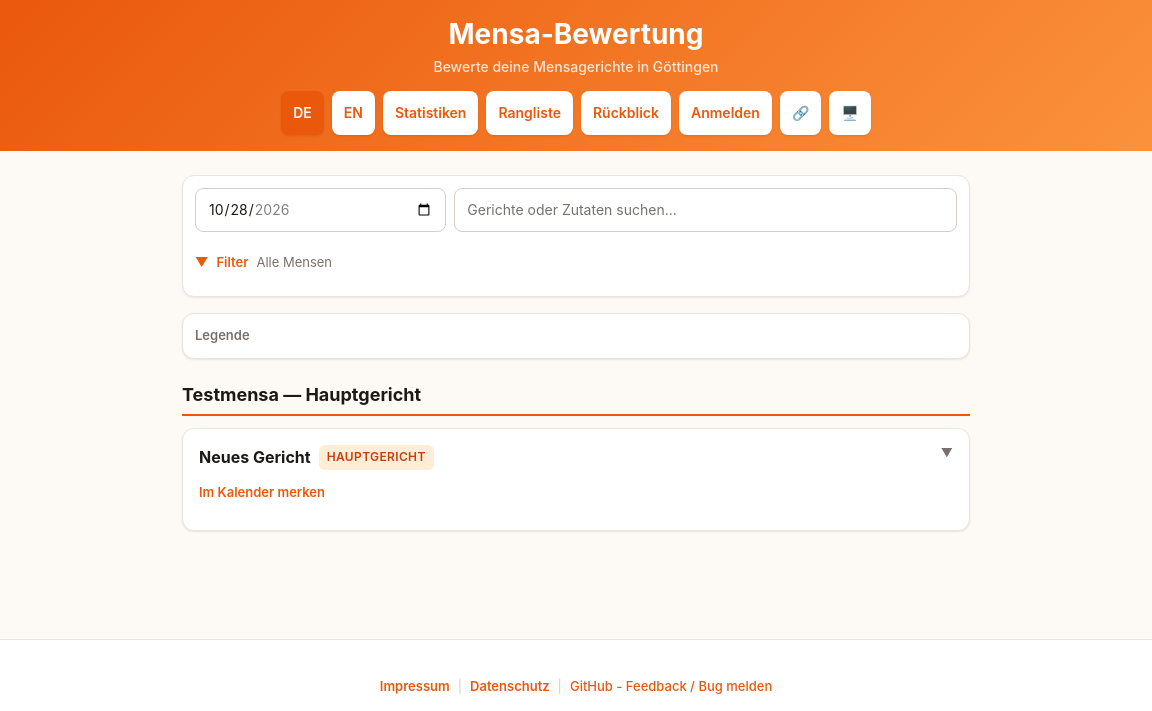
Scenario: the submitted row is marked as the visitor's own
The width and height of the screenshot is (1152, 711).
Click the text "Neues Gericht" at (255, 458), box [199, 447, 311, 468]
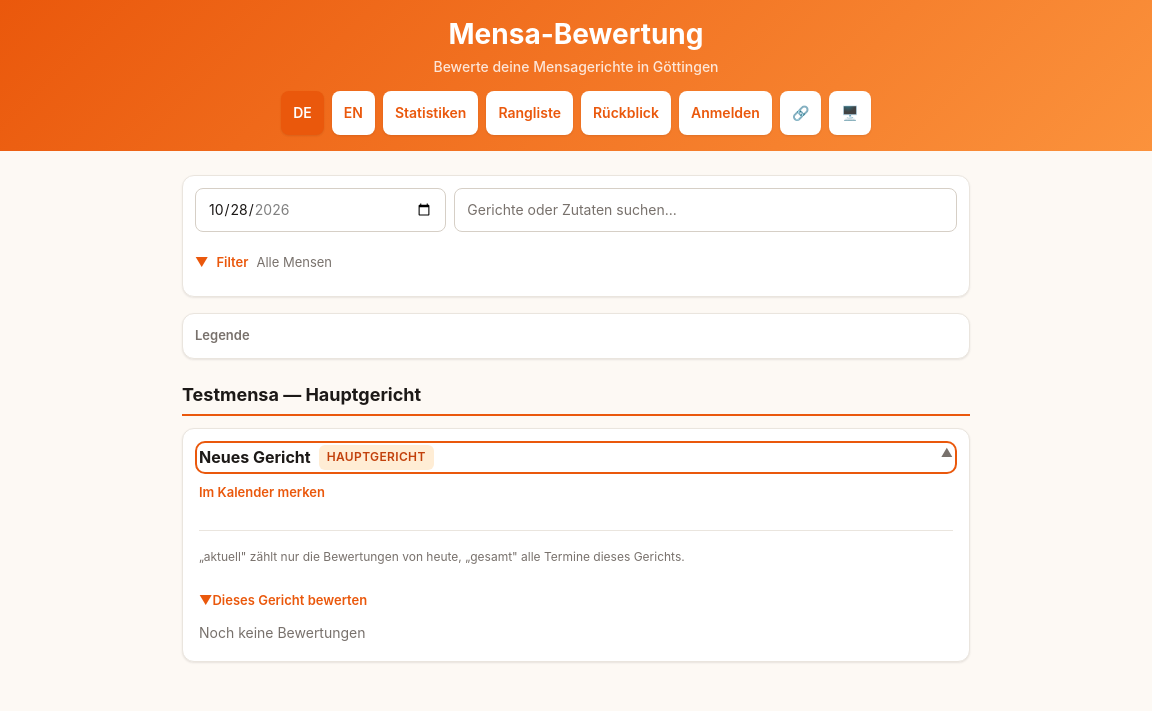
Click the button "▼ Dieses Gericht bewerten" at (283, 600), box [199, 578, 367, 622]
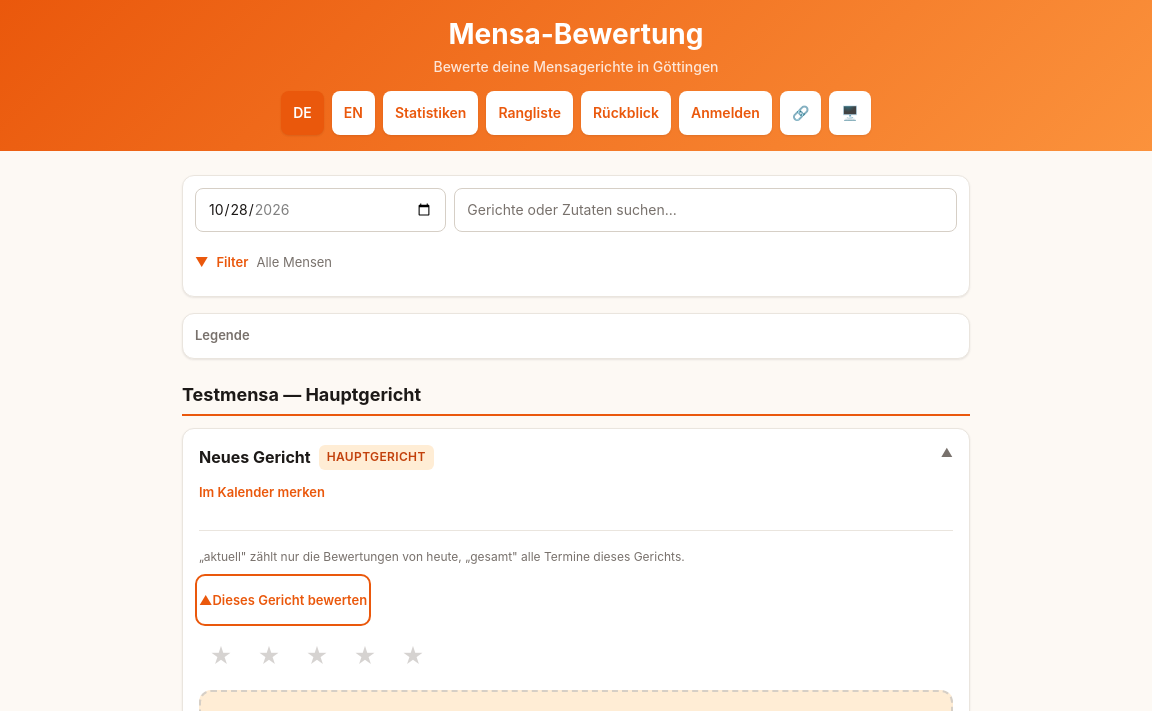
Click the 5th button with class "star-btn" at (413, 656), box [391, 634, 435, 678]
(page scrolled)
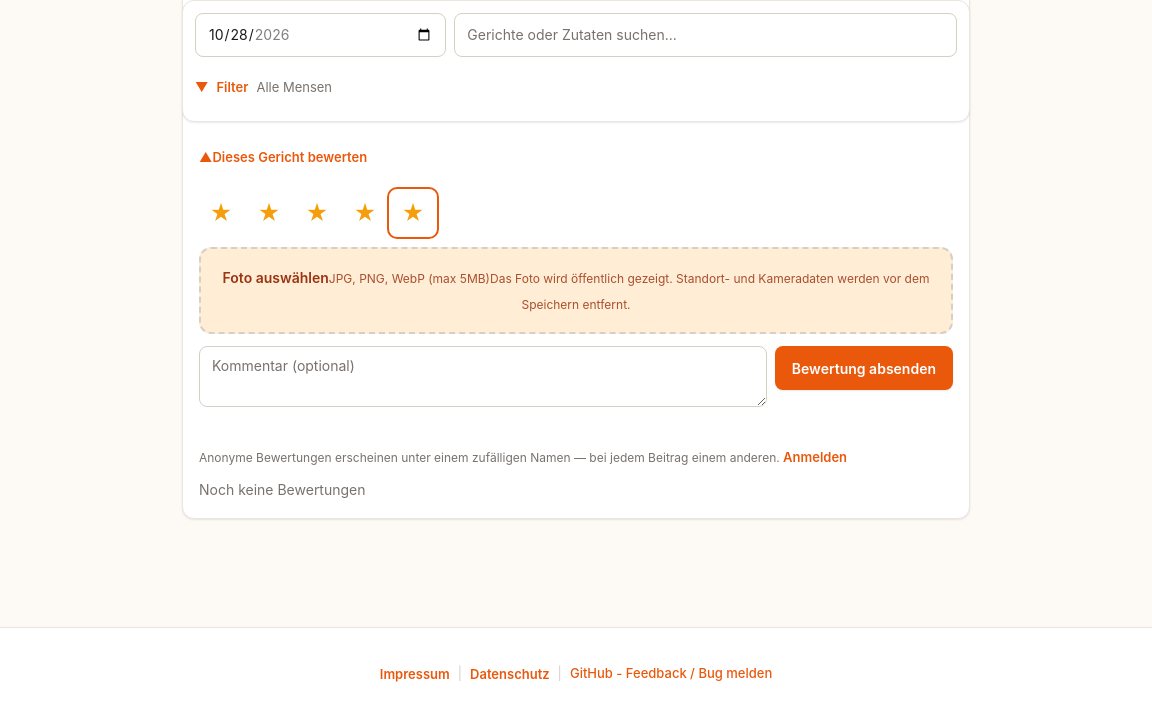
Type "Frisch gekocht" into the text box labelled "Kommentar (optional)" at (483, 377), box [199, 346, 767, 407]
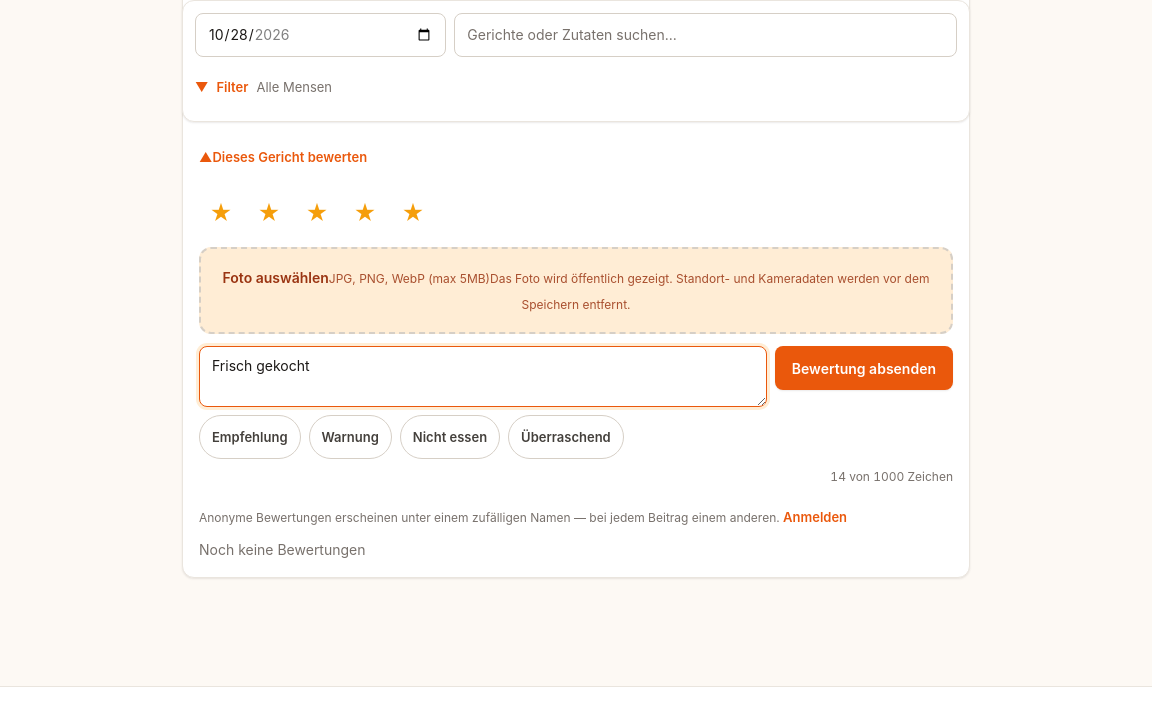
Click the button "Bewertung absenden" at (864, 368), box [775, 346, 953, 390]
(page scrolled)
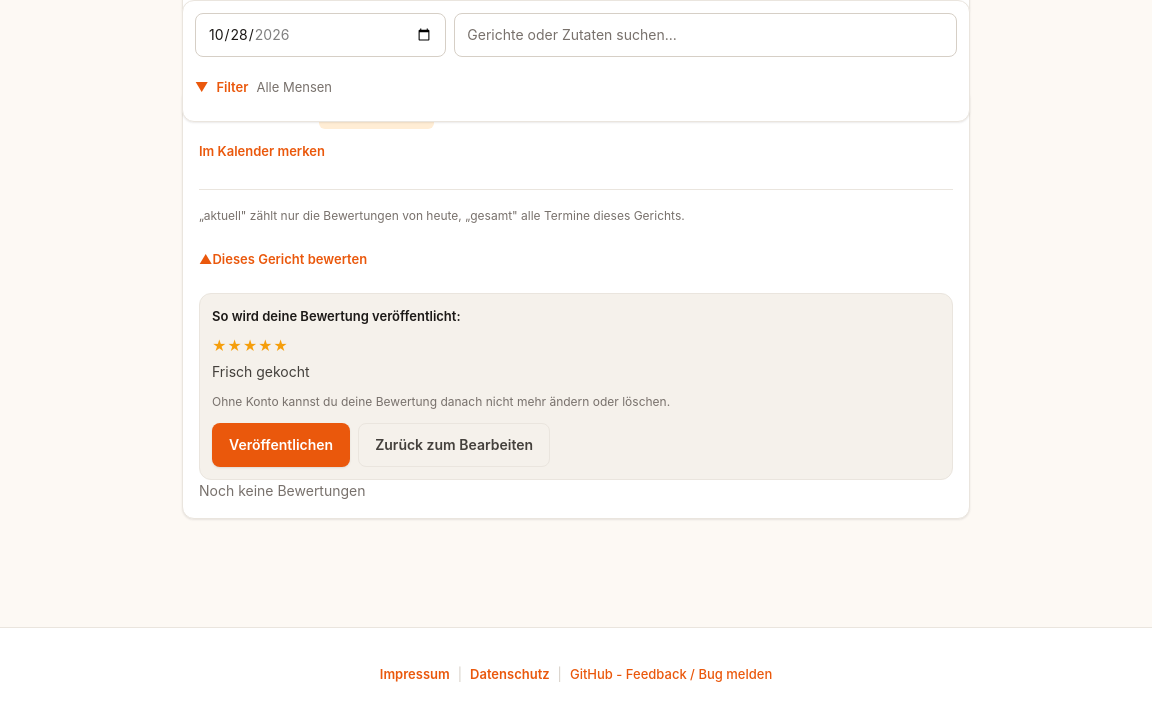
Click the button "Veröffentlichen" at (281, 445), box [212, 423, 350, 467]
(page scrolled)
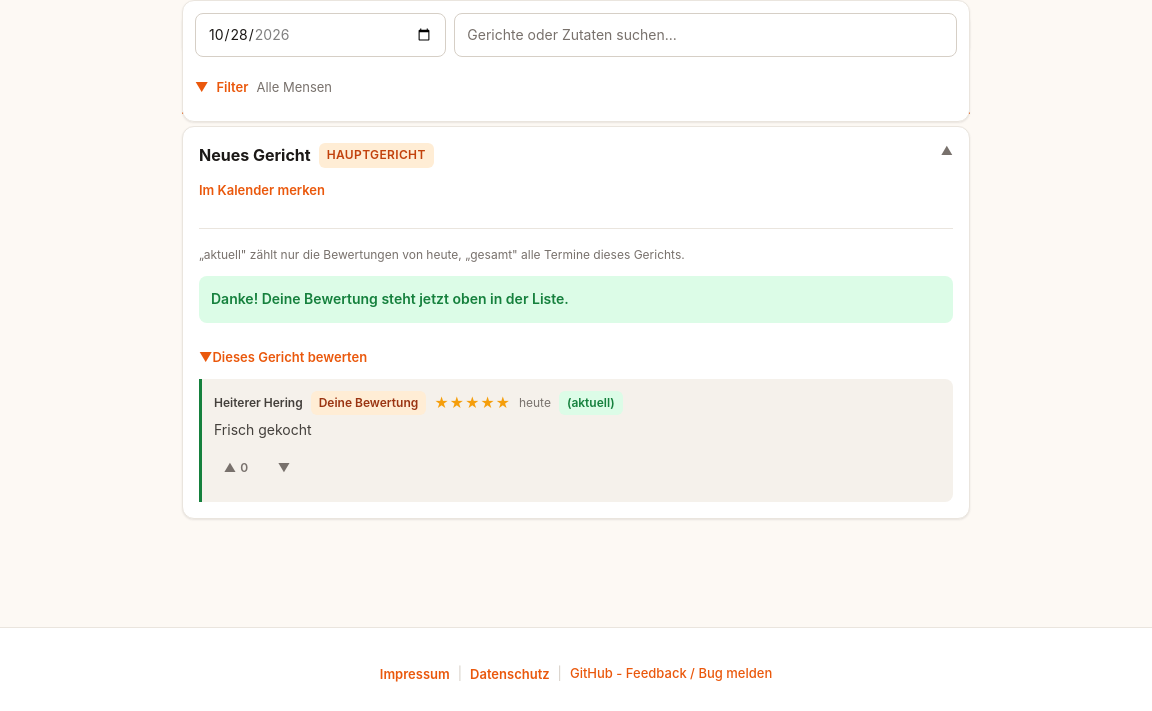
Expected: the text "Deine Bewertung" is shown, [311, 390, 426, 415]
Expected: the element with class "review" is shown, [199, 378, 953, 502]
